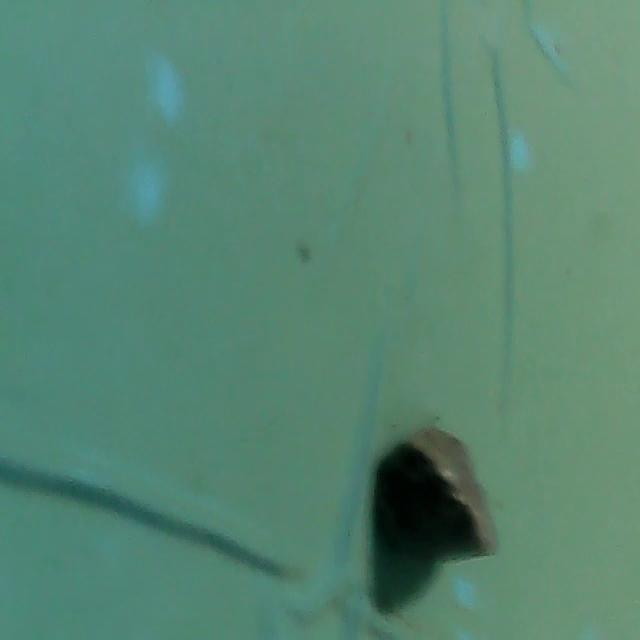rock: (363, 410, 508, 572)
